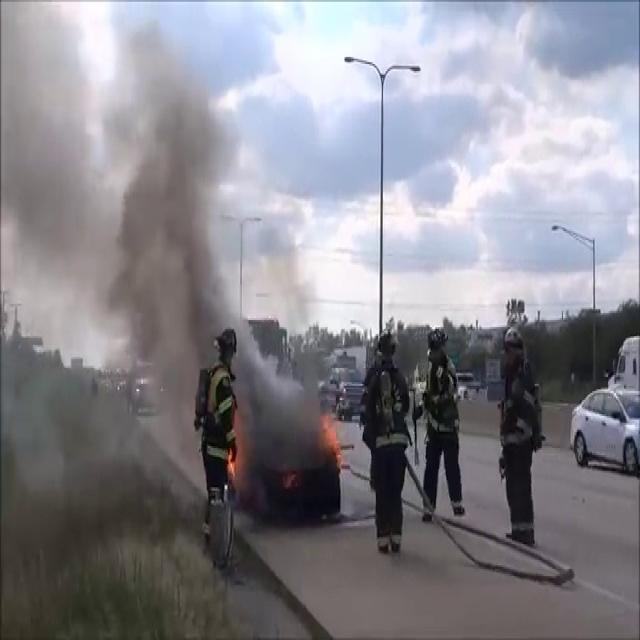Smoke: (2, 4, 331, 507)
